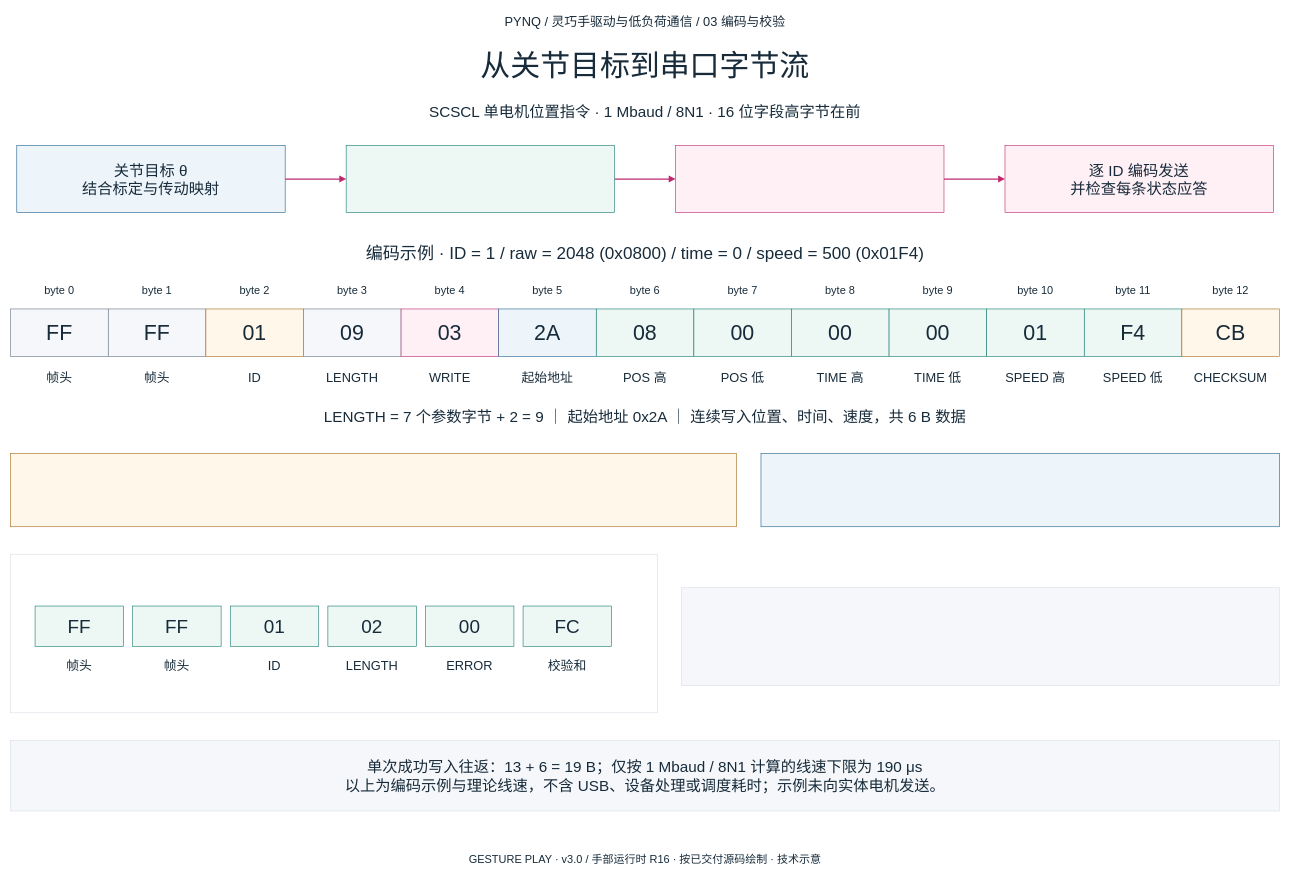
This 1290x880 diagram has some shape labels left out. The shapes that lost their labels are listed below. From the top down, each one's box as (x1, y1, x2, y2) in pixels, then its label:
(346, 145, 615, 213): 量化为 raw round(电机角度 / POS_SCALE)
(675, 145, 944, 213): 预编译目标元组 (ID, raw, speed)
(10, 453, 737, 527): 校验和 = ~(ID + LENGTH + 指令 + 参数之和) & 0xFF 示例：~0x0134 & 0xFF = 0xCB
(760, 453, 1279, 527): 高字节在前：2048 → 08 00 当前 scscl 构造设置 scs_end = 1
(10, 554, 657, 713): 成功状态应答 / 6 B
(681, 587, 1279, 685): 接收检查：帧头、ID、长度、校验和、error 成功 → 记录本次目标缓存 错误 / 超时 → 清除缓存，交由 owner 处理
